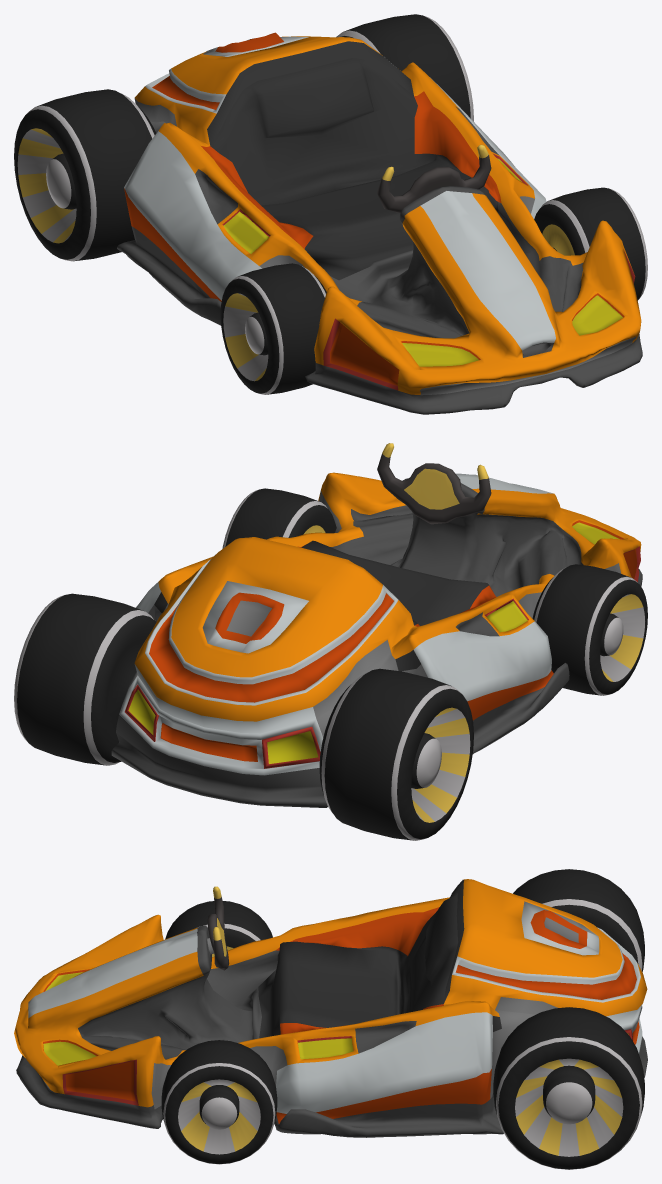
Rendered from 05_XE CAM TRANG.fbx.
3 renders of one model, top to bottom at view 1: azimuth 30°, elevation 25°; view 2: azimuth 150°, elevation 25°; view 3: azimuth 270°, elevation 25°, orthographic. The views are drawn at different scales.
Parts seen in each view (by area): view 1: Than Xe, Banh.001, Banh.002, Banh.004, Banh.003, Vo Lang; view 2: Than Xe, Banh.001, Banh.003, Banh.002, Vo Lang, Banh.004; view 3: Than Xe, Banh.003, Banh.004, Banh.001, Banh.002, Vo Lang.
Part boxes in pixels (box(x1,y1,x2,y2)): Than Xe: box(117, 32, 642, 414); Banh.001: box(14, 89, 156, 261); Banh.002: box(220, 263, 326, 394); Banh.004: box(534, 187, 647, 300); Banh.003: box(336, 14, 473, 121); Vo Lang: box(377, 144, 491, 212); Than Xe: box(111, 472, 642, 807); Banh.001: box(319, 668, 473, 840); Banh.003: box(14, 593, 156, 765); Banh.002: box(532, 564, 647, 695); Vo Lang: box(377, 443, 491, 524); Banh.004: box(222, 488, 336, 548); Than Xe: box(14, 879, 647, 1137); Banh.003: box(493, 1007, 644, 1169); Banh.004: box(161, 1040, 277, 1164); Banh.001: box(513, 869, 644, 971); Banh.002: box(165, 901, 272, 957); Vo Lang: box(207, 886, 229, 970).
Size of the model in its own units: 128 by 62.55 by 194.
